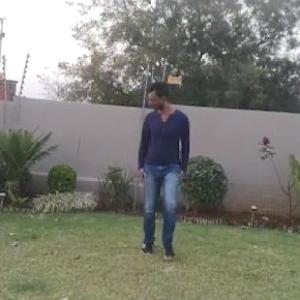follow: (130, 77, 190, 271)
